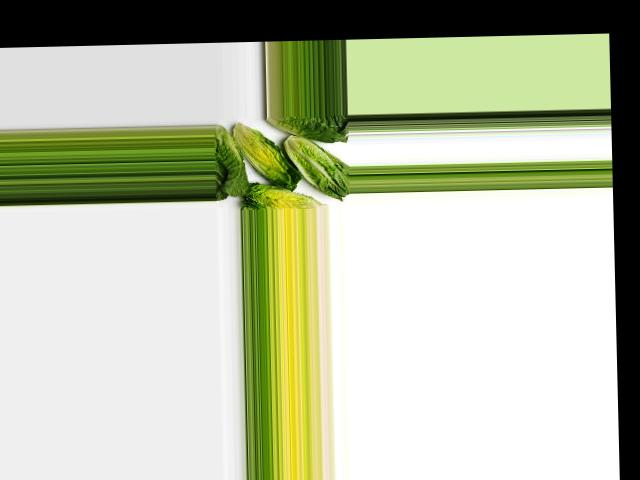lettuce: (213, 126, 251, 201)
